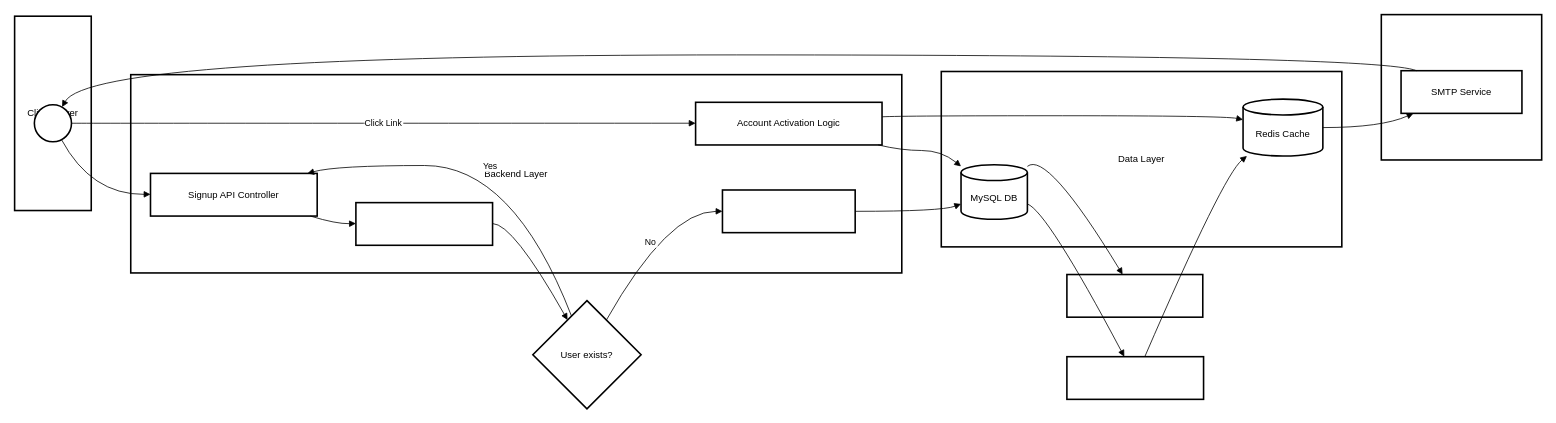
This 1556x423 diagram has some shape labels left out. The centre of each missing label's shape, as x and y in pixels:
BCrypt Hashing: the point at 788,211
Generate Token: the point at 1135,378
Input Validation: the point at 424,223
User: the point at 52,122
User Registered: the point at 1134,295
